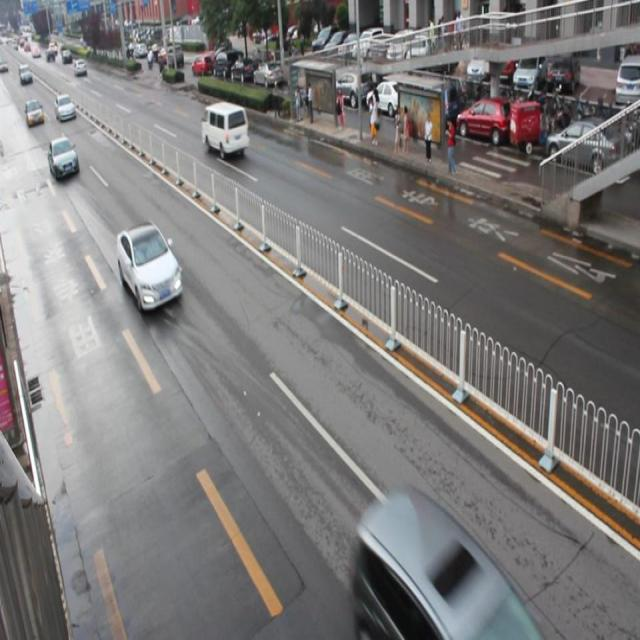car: (117, 221, 182, 312), (48, 135, 79, 181)
truck: (358, 489, 536, 640), (201, 101, 249, 156)
